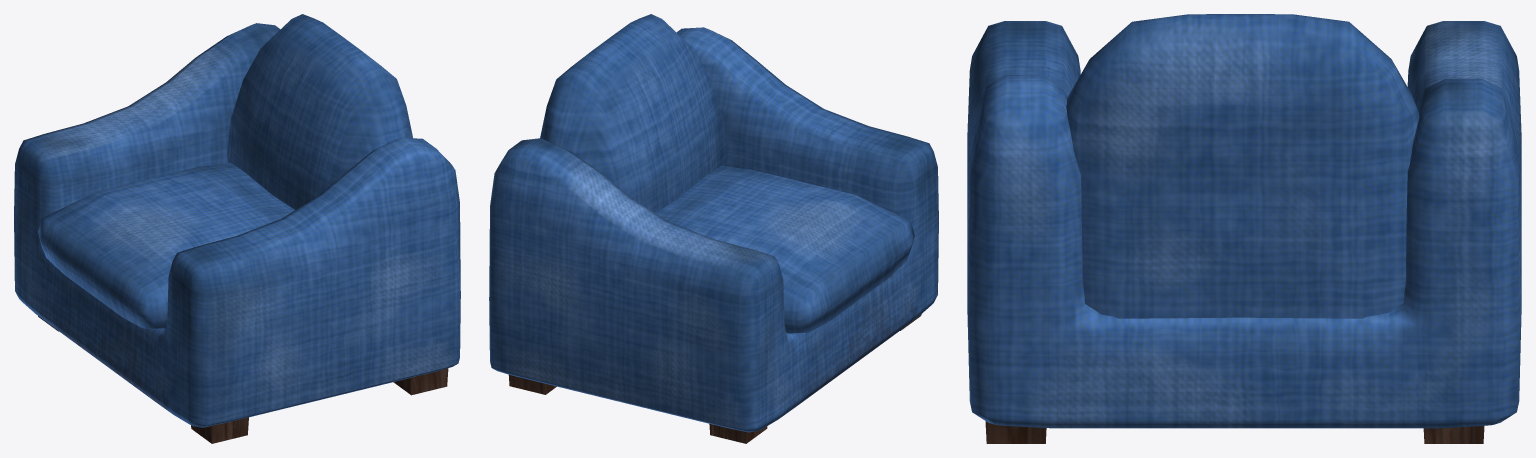
Rendered from ArmchairForMitch.glb.
3 views of the same model, side by side, from view 1: azimuth 30°, elevation 25°; view 2: azimuth 150°, elevation 25°; view 3: azimuth 270°, elevation 25° (orthographic). The views are drawn at different scales.
Parts seen in each view (by area): view 1: Base, Back, Cushion, Legs; view 2: Base, Back, Cushion, Legs; view 3: Base, Back, Legs.
Boxes of the visible parts, bbox=[...] form: Base: bbox=[14, 23, 460, 427]; Back: bbox=[227, 14, 412, 209]; Cushion: bbox=[38, 163, 294, 329]; Legs: bbox=[38, 316, 448, 443]; Base: bbox=[489, 27, 938, 432]; Back: bbox=[540, 14, 727, 213]; Cushion: bbox=[656, 166, 914, 333]; Legs: bbox=[508, 314, 921, 443]; Base: bbox=[967, 21, 1521, 428]; Back: bbox=[1066, 14, 1419, 318]; Legs: bbox=[985, 421, 1484, 443].
Bounding box in the file's own units: 1.29 × 1.25 × 1.52.
1 material, 1 textured.
